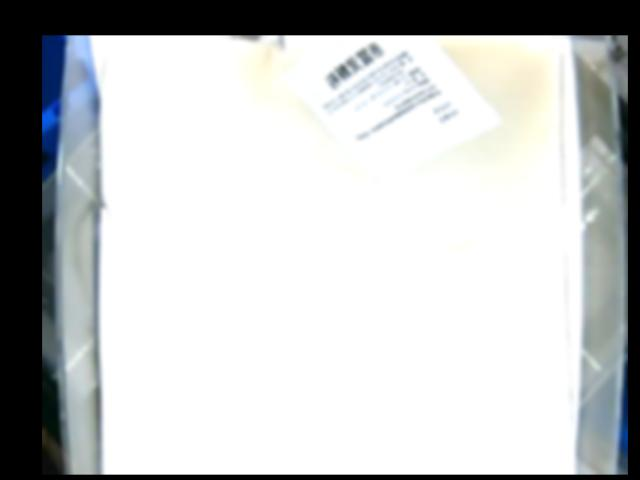Medicine: (282, 36, 500, 184)
